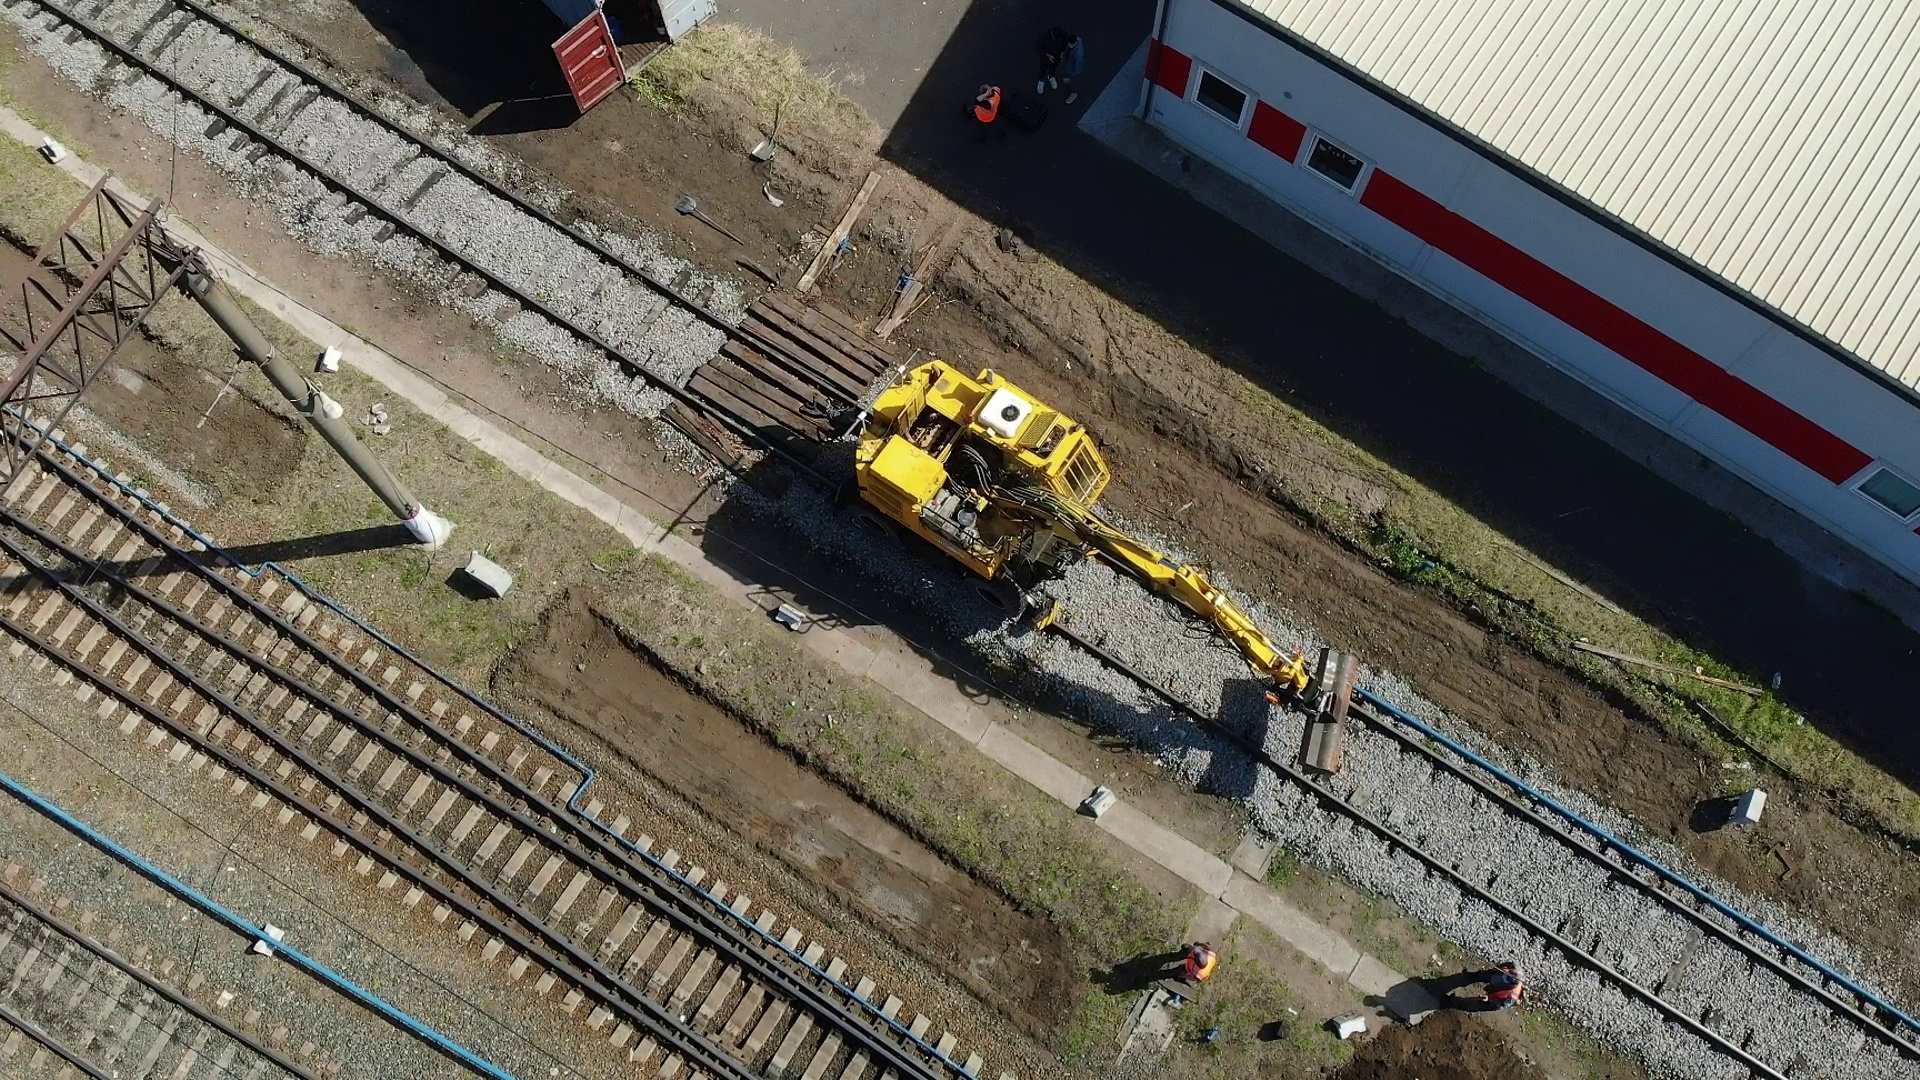kjtv: (833, 375, 1185, 591)
